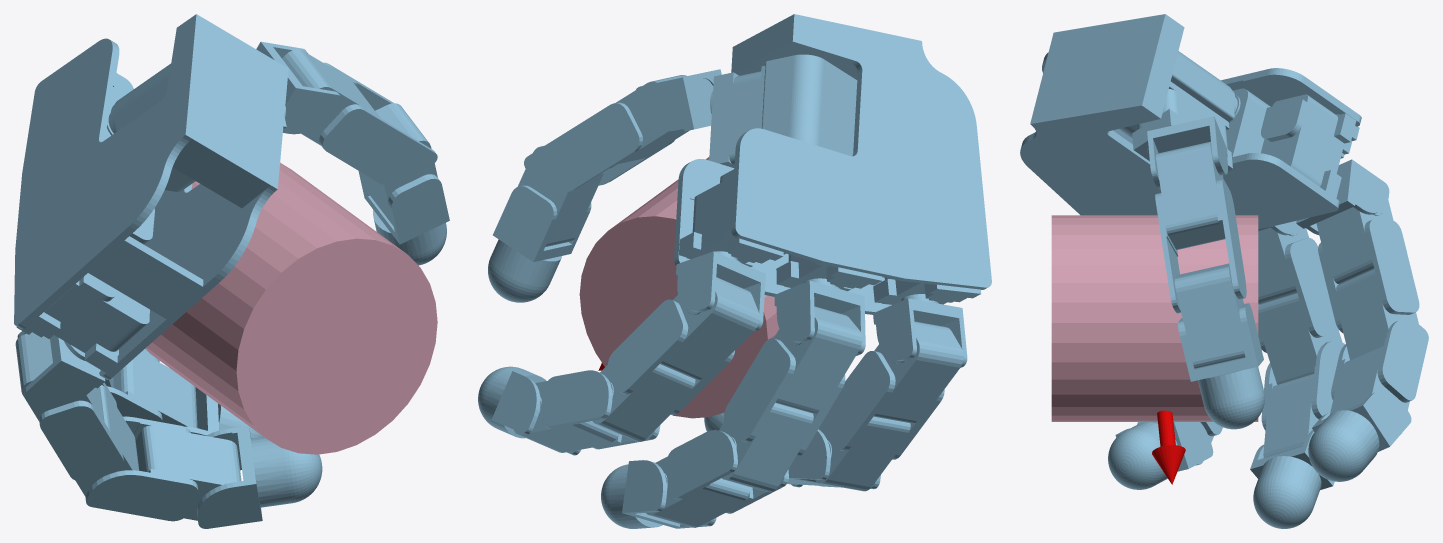
The picture shows the model from 3 angles, left to right: view 1: azimuth 30°, elevation 25°; view 2: azimuth 150°, elevation 25°; view 3: azimuth 270°, elevation 25°; orthographic projection. The views are drawn at different scales.
Visible parts, largest first — view 1: world, cylinder_medium.stl; view 2: world, cylinder_medium.stl; view 3: world, cylinder_medium.stl.
Boxes of the visible parts, bbox=[...] form: world: bbox=[14, 14, 449, 528]; cylinder_medium.stl: bbox=[145, 163, 437, 454]; world: bbox=[478, 14, 991, 528]; cylinder_medium.stl: bbox=[579, 157, 779, 418]; world: bbox=[1020, 14, 1428, 528]; cylinder_medium.stl: bbox=[1051, 215, 1258, 421].
Bounding box in the file's own units: 0.1907 × 0.1991 × 0.1581.
